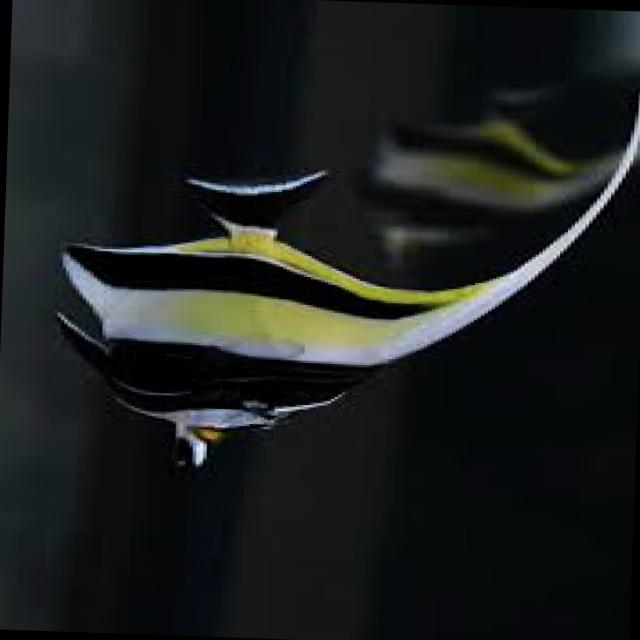MorishIdol: (46, 63, 640, 487)
